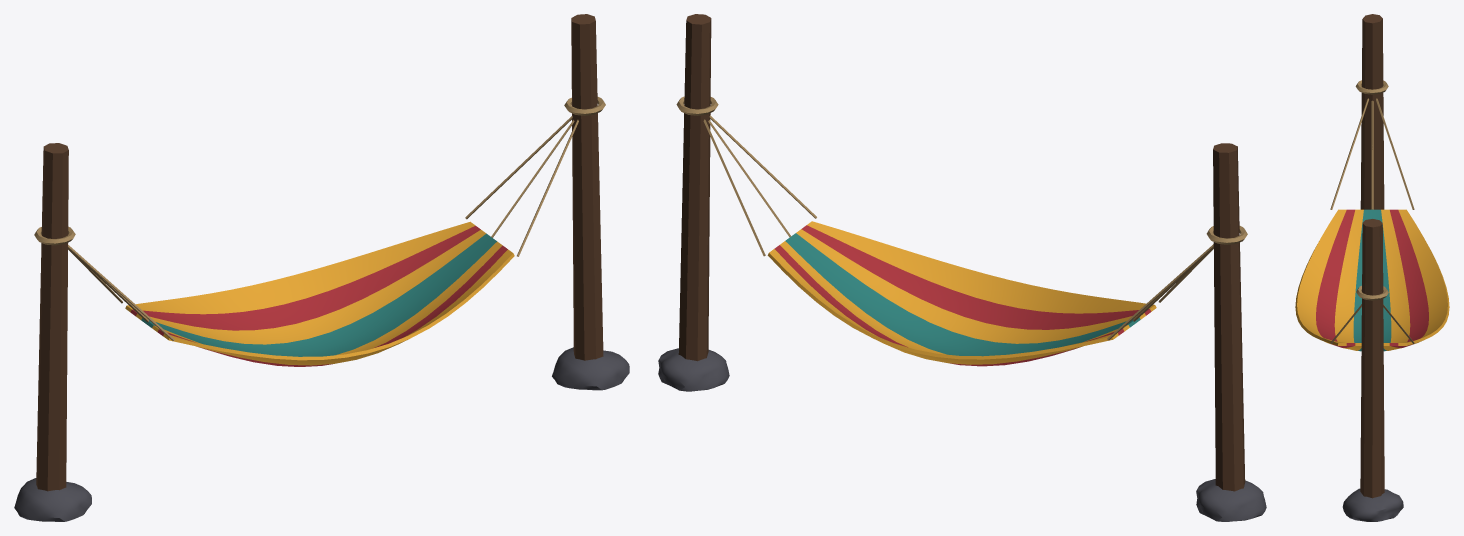
Rendered from deco_hammock.fbx.
The picture shows the model from 3 angles, left to right: view 1: azimuth 30°, elevation 25°; view 2: azimuth 150°, elevation 25°; view 3: azimuth 270°, elevation 25°; orthographic projection. The views are drawn at different scales.
Visible parts, largest first — view 1: Hammock_Bed, Hammock_Posts, Hammock_Ropes; view 2: Hammock_Bed, Hammock_Posts, Hammock_Ropes; view 3: Hammock_Bed, Hammock_Posts, Hammock_Ropes.
Boxes of the visible parts, <box> form: Hammock_Bed: <box>125,221,514,366</box>; Hammock_Posts: <box>14,14,629,521</box>; Hammock_Ropes: <box>68,116,578,340</box>; Hammock_Bed: <box>767,221,1156,366</box>; Hammock_Posts: <box>658,14,1266,521</box>; Hammock_Ropes: <box>703,115,1213,340</box>; Hammock_Bed: <box>1295,209,1449,351</box>; Hammock_Posts: <box>1342,14,1403,521</box>; Hammock_Ropes: <box>1330,98,1414,343</box>.
Bounding box in the file's own units: 404 × 230 × 112.
